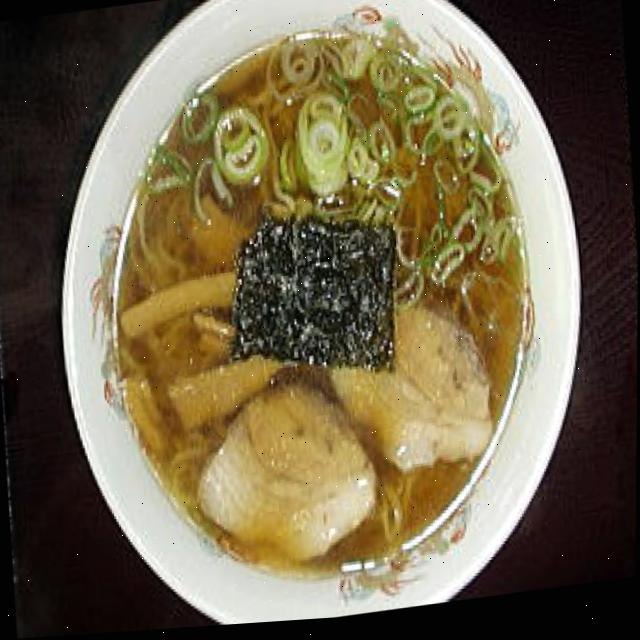面条主食: (38, 0, 601, 638)
